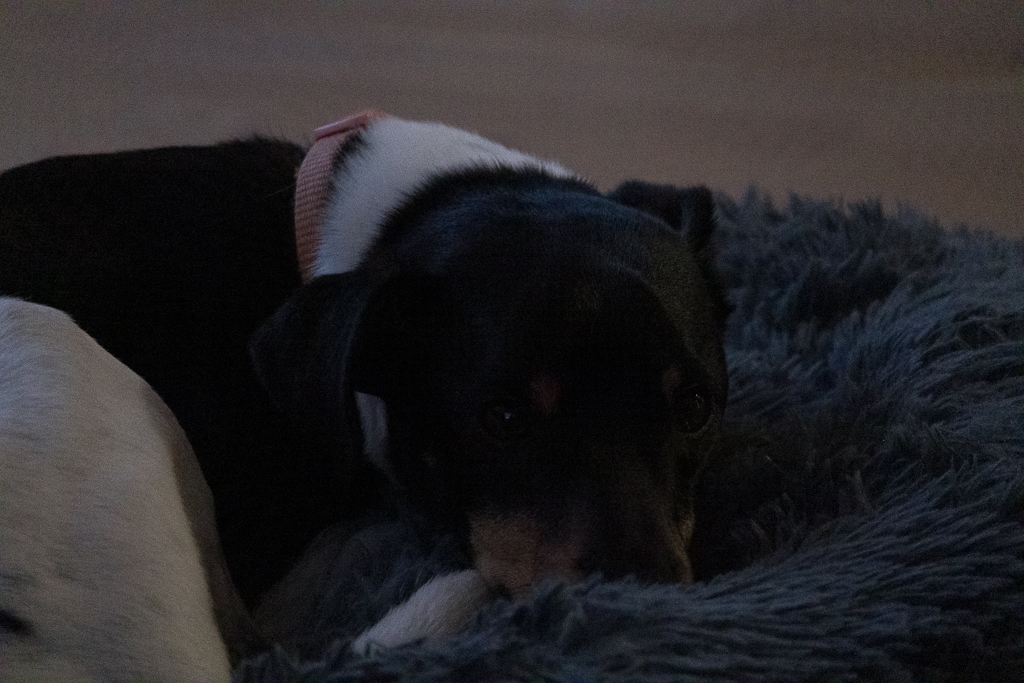Dog: (0, 97, 744, 683)
